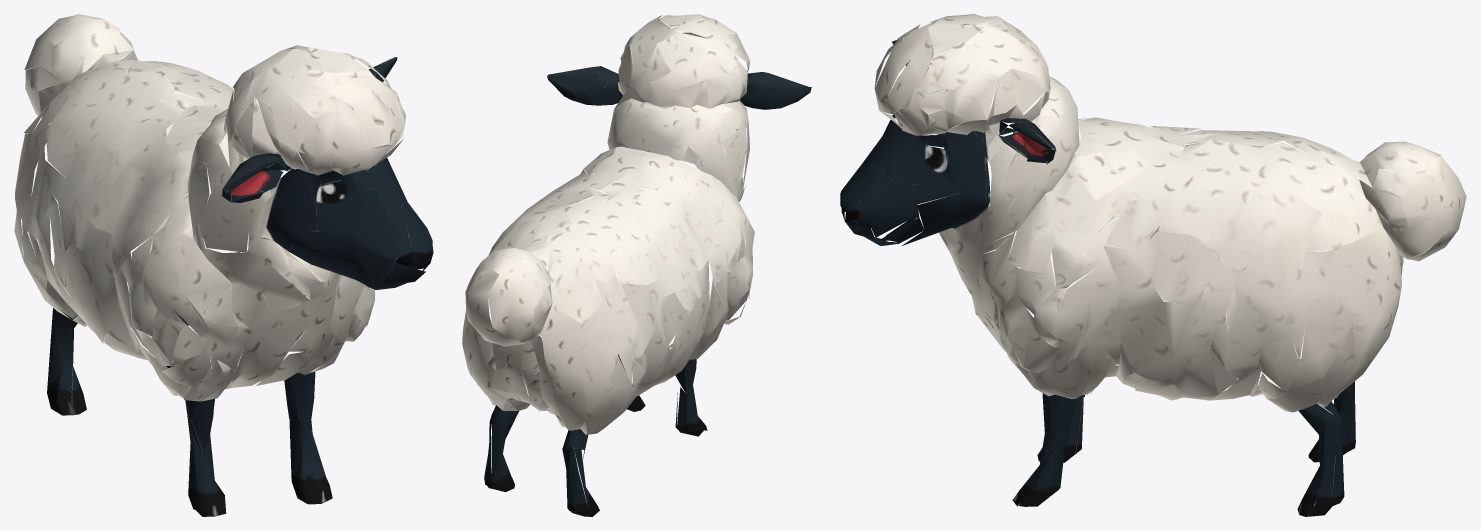
Rendered from prop_sheep.glb.
3 renders of one model, left to right at view 1: azimuth 30°, elevation 25°; view 2: azimuth 150°, elevation 25°; view 3: azimuth 270°, elevation 25°, orthographic. The views are drawn at different scales.
Parts seen in each view (by area): view 1: body; view 2: body; view 3: body.
Part boxes in pixels (box(x1,y1,x2,y2)): body: box(14, 14, 433, 516); body: box(462, 14, 811, 516); body: box(840, 14, 1466, 516).
Size of the model in its own units: 0.5166 by 0.8934 by 1.1.
1 material, 1 textured.
